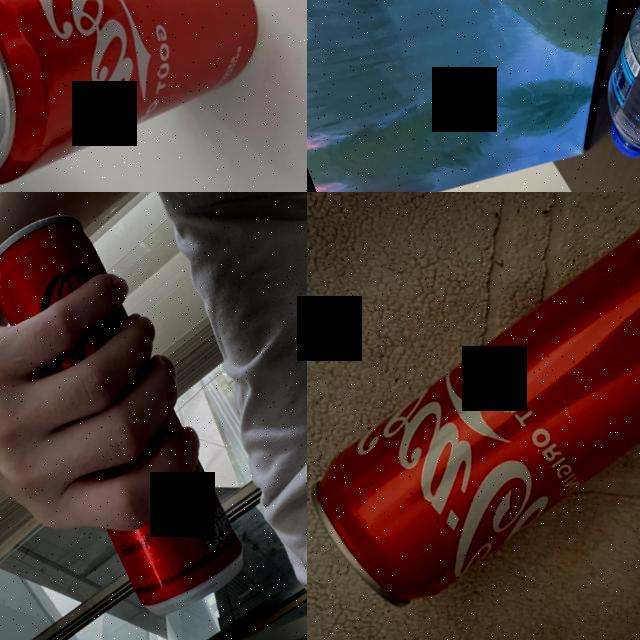bottle: (515, 0, 640, 192)
can: (307, 198, 640, 625), (0, 192, 261, 630), (0, 0, 292, 192)
